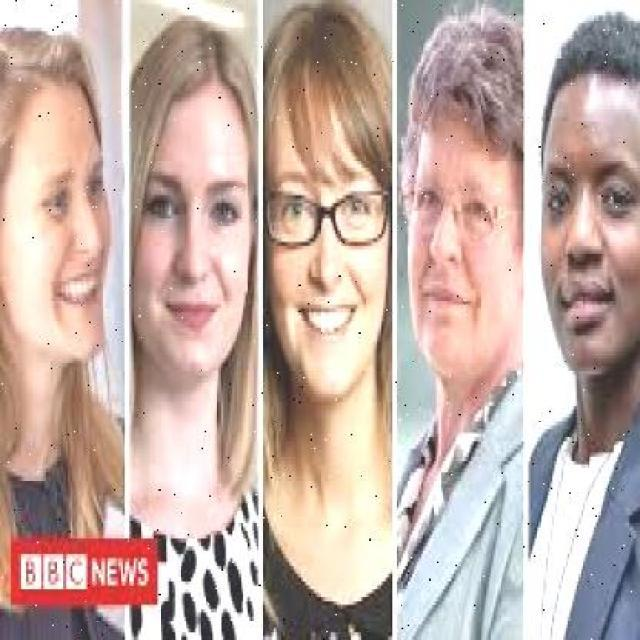glasses: (260, 186, 392, 254)
